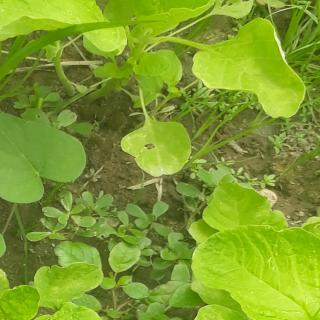virus_keriting: (42, 301, 90, 320)
